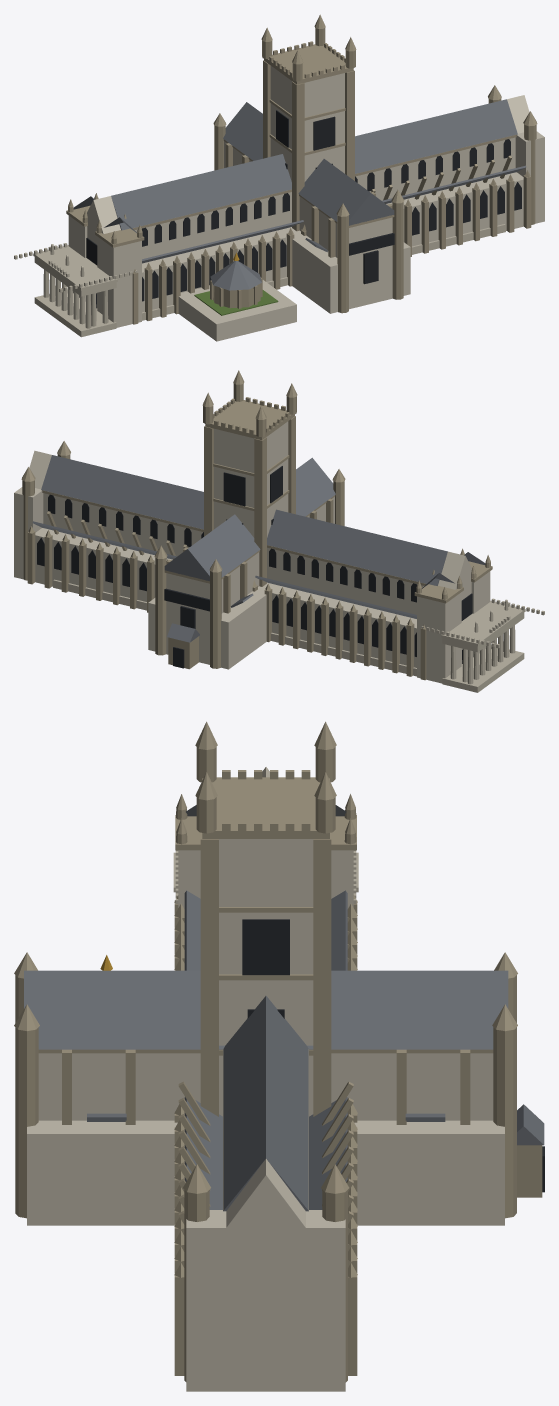
File: old_st_pauls_nospire.glb
3 renders of one model, top to bottom at view 1: azimuth 30°, elevation 25°; view 2: azimuth 150°, elevation 25°; view 3: azimuth 270°, elevation 25°, orthographic. The views are drawn at different scales.
Parts seen in each view (by area): view 1: old_st_pauls_nospire; view 2: old_st_pauls_nospire; view 3: old_st_pauls_nospire.
Boxes of the visible parts, bbox=[...] form: old_st_pauls_nospire: bbox=[14, 14, 544, 341]; old_st_pauls_nospire: bbox=[14, 370, 544, 692]; old_st_pauls_nospire: bbox=[14, 721, 544, 1391].
Bounding box in the file's own units: 206 × 91.6 × 99.96.
